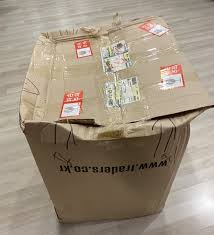damaged package: (11, 10, 213, 153)
